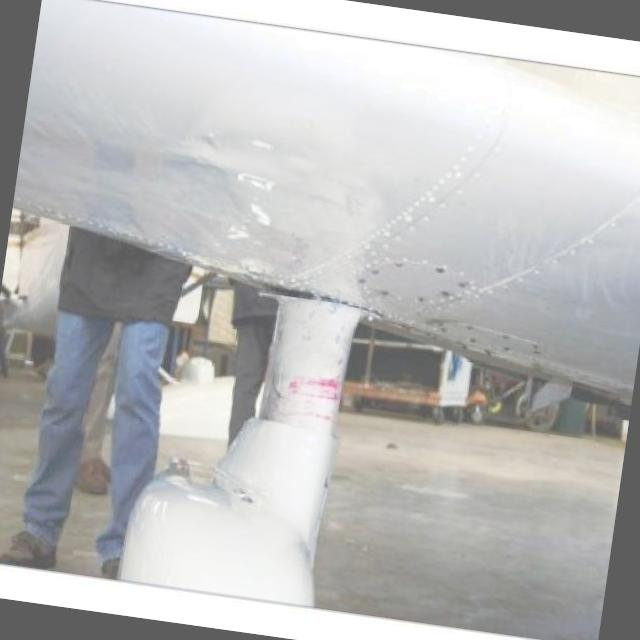dent: (223, 160, 270, 202)
